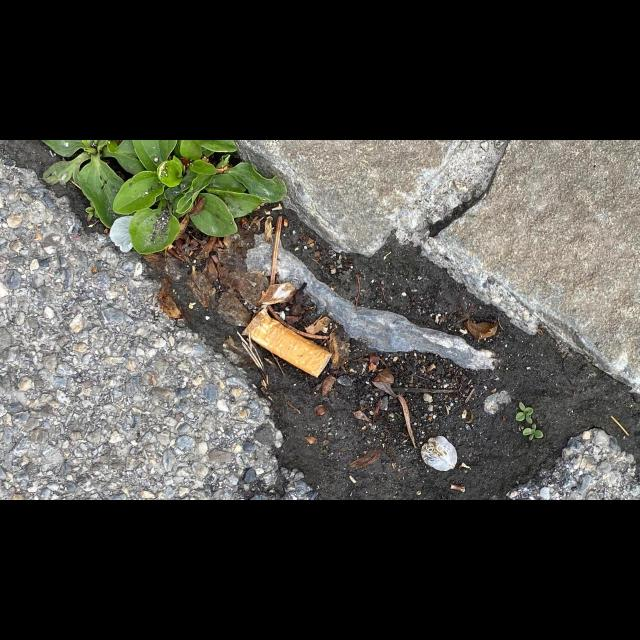cigarette: (240, 304, 332, 379)
